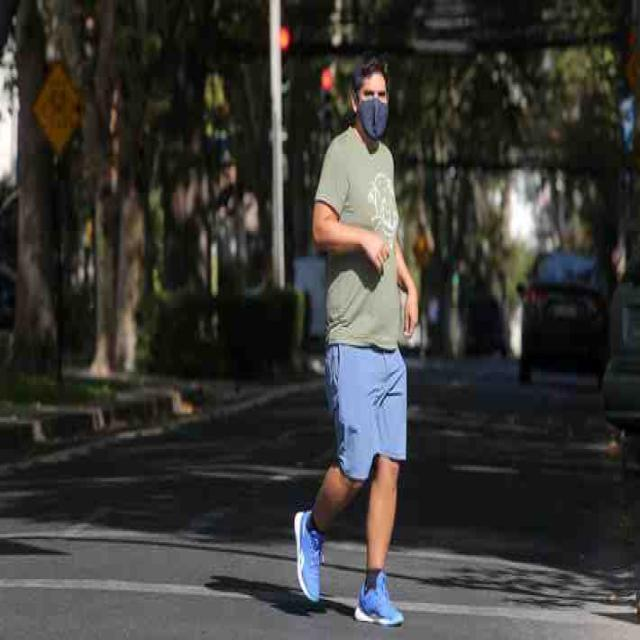person: (268, 43, 430, 640)
